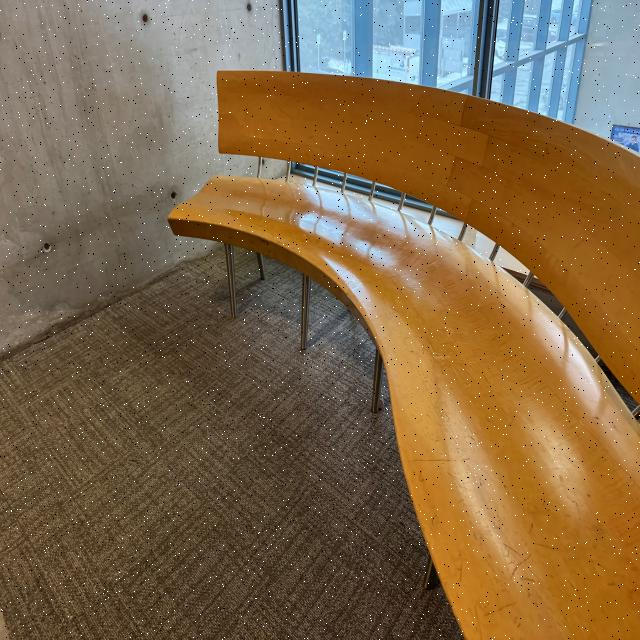Bench: (207, 56, 636, 638)
